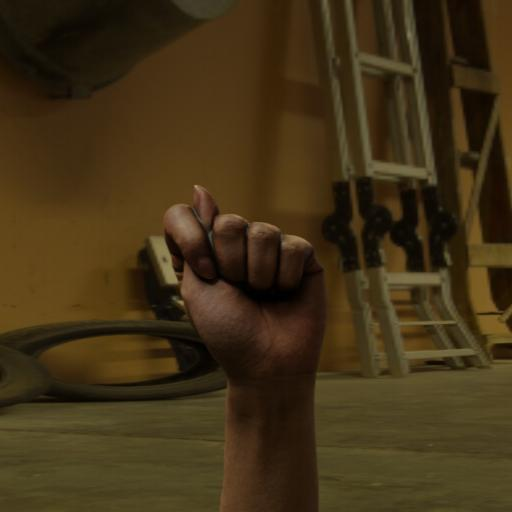T: (152, 171, 341, 393)
